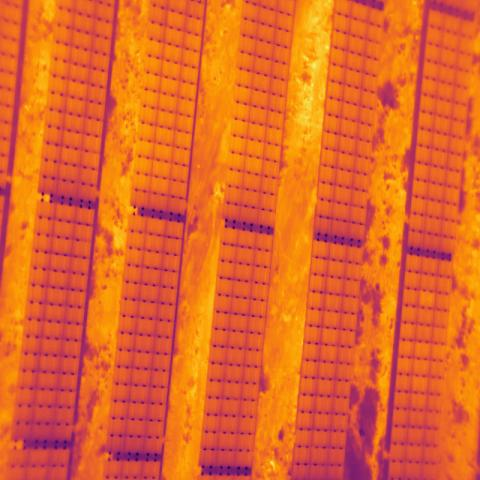fault: (418, 290, 434, 308)
